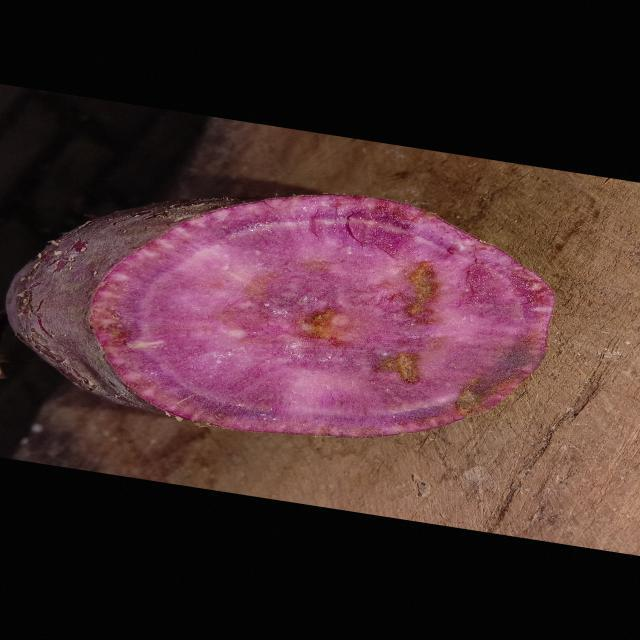Sick Sweet Potato_Tuber Rot: (91, 195, 553, 436)
